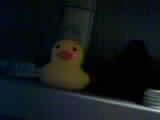duck: (51, 41, 109, 94)
